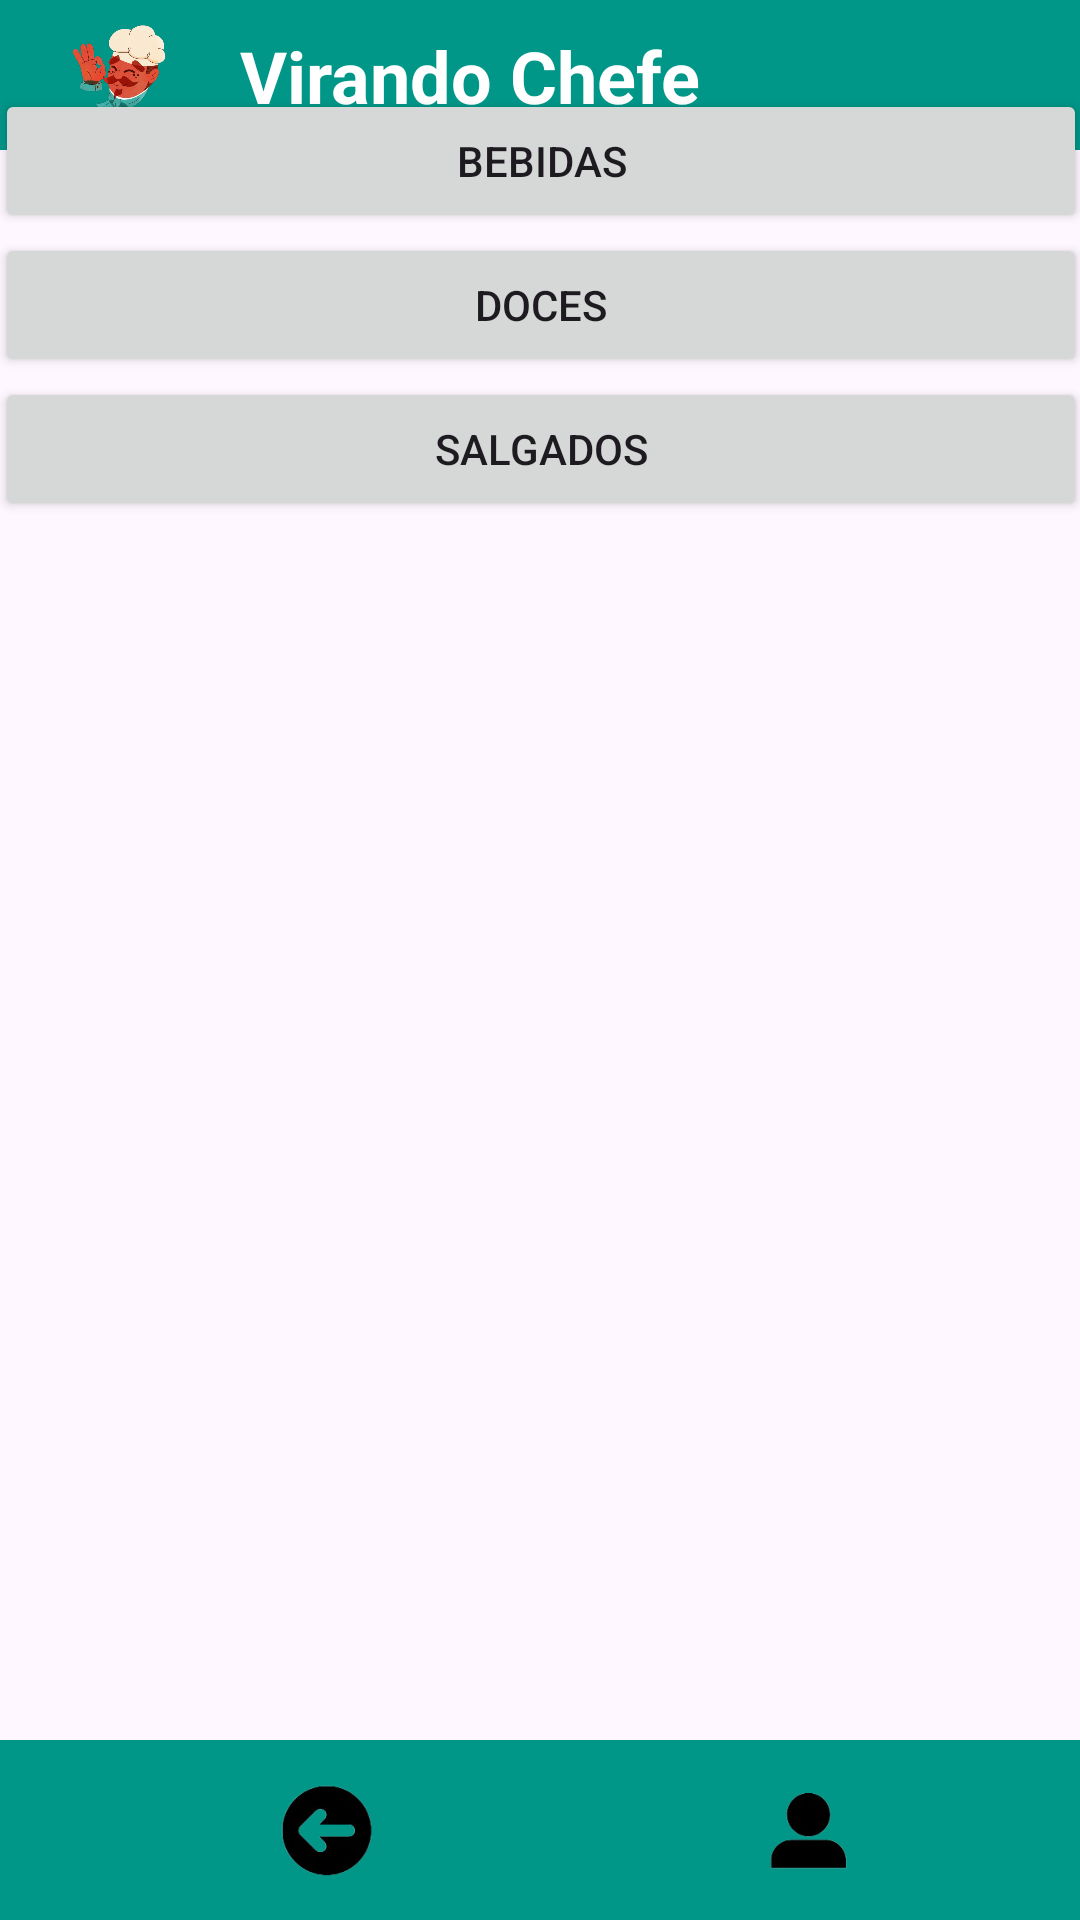

Point at icon controls on the screen. Image size 1080x1920, points as [x,y].
Perfil: [808,1831]
